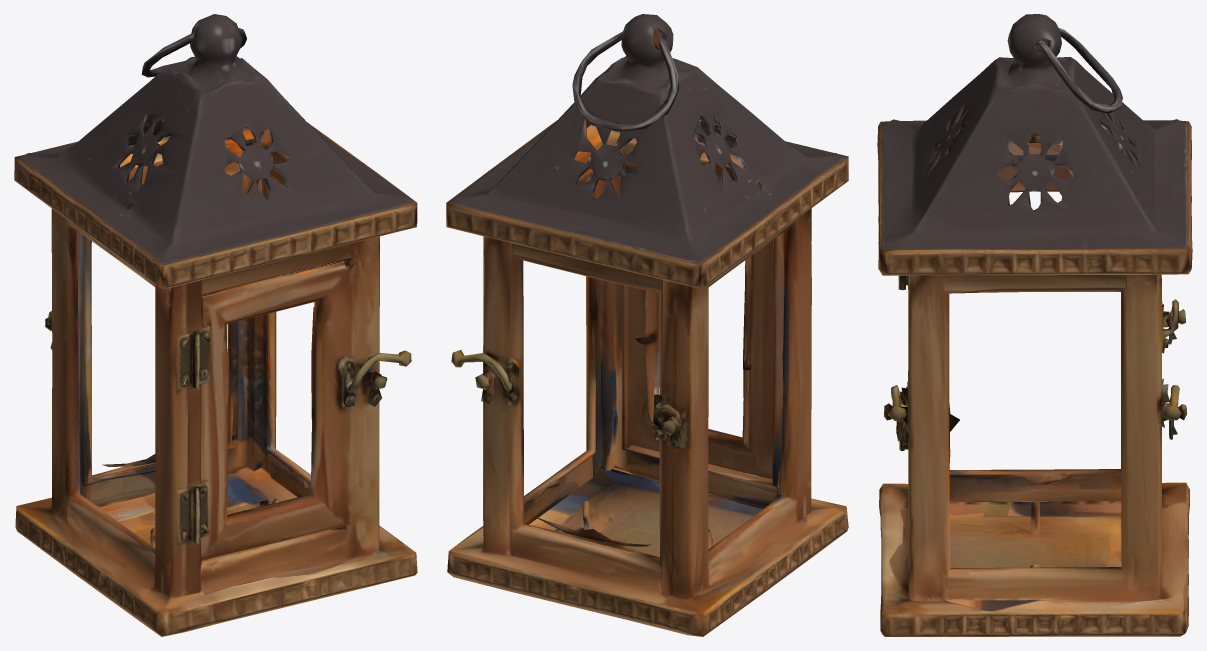
Rendered from lantern.glb.
3 views of the same model, side by side, from view 1: azimuth 30°, elevation 25°; view 2: azimuth 150°, elevation 25°; view 3: azimuth 270°, elevation 25° (orthographic). The views are drawn at different scales.
Visible parts, largest first — view 1: tripo_node_95f32ac2; view 2: tripo_node_95f32ac2; view 3: tripo_node_95f32ac2.
Part boxes in pixels (<box>): tripo_node_95f32ac2: <box>14,14,417,636</box>; tripo_node_95f32ac2: <box>446,14,848,636</box>; tripo_node_95f32ac2: <box>877,14,1192,636</box>.
Size of the model in its own units: 0.1646 by 0.3223 by 0.1653.
Materials: 1 (1 with a texture image).
